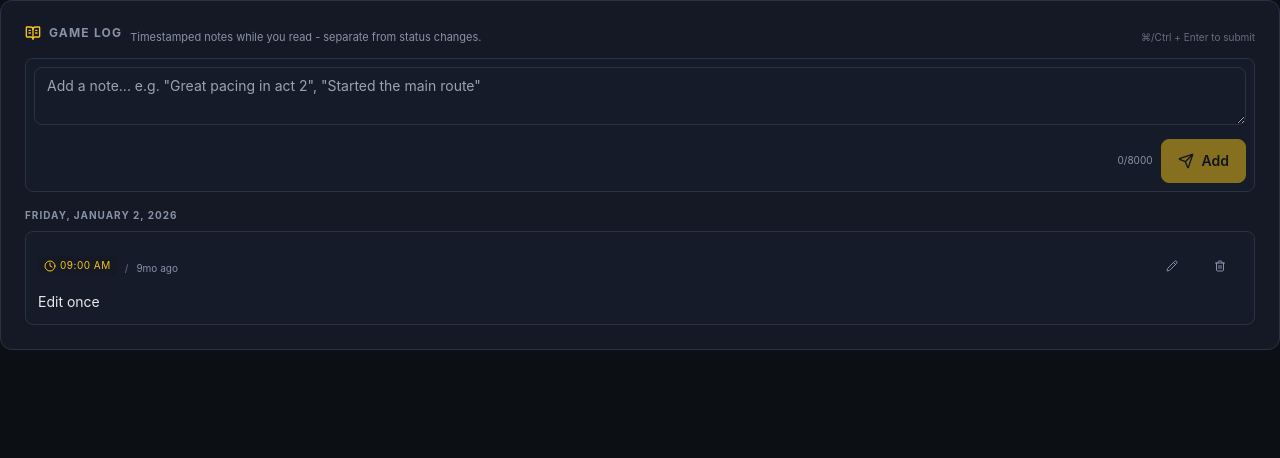
GameLog branches › ignores duplicate edit submissions while a request is active
The image size is (1280, 458).
Click the button named "Edit": (1172, 266) [1150,244,1194,288]
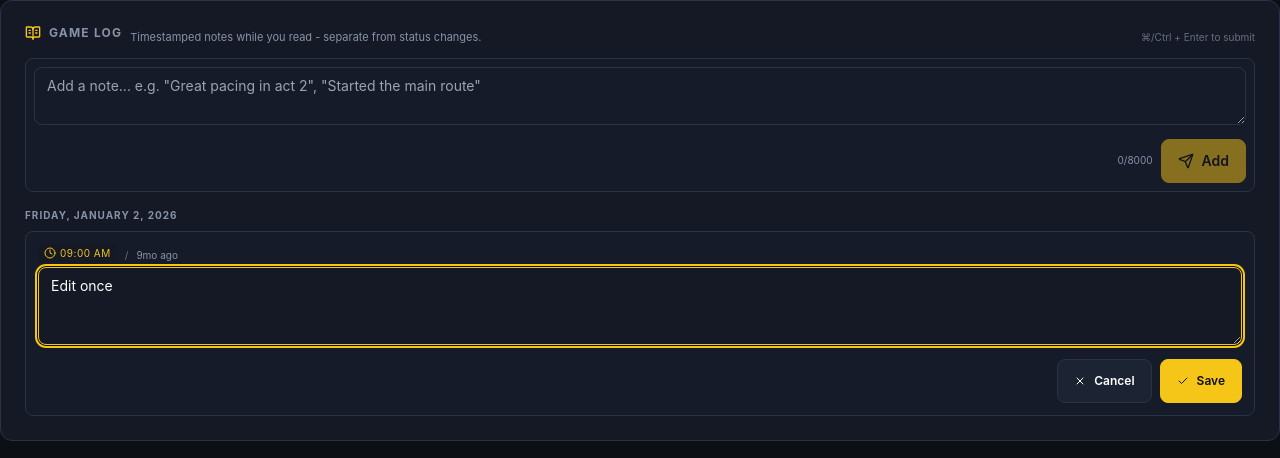
Replace the text in the text box showing "Edit once" with "Edited once": (640, 306) [38,267,1242,345]
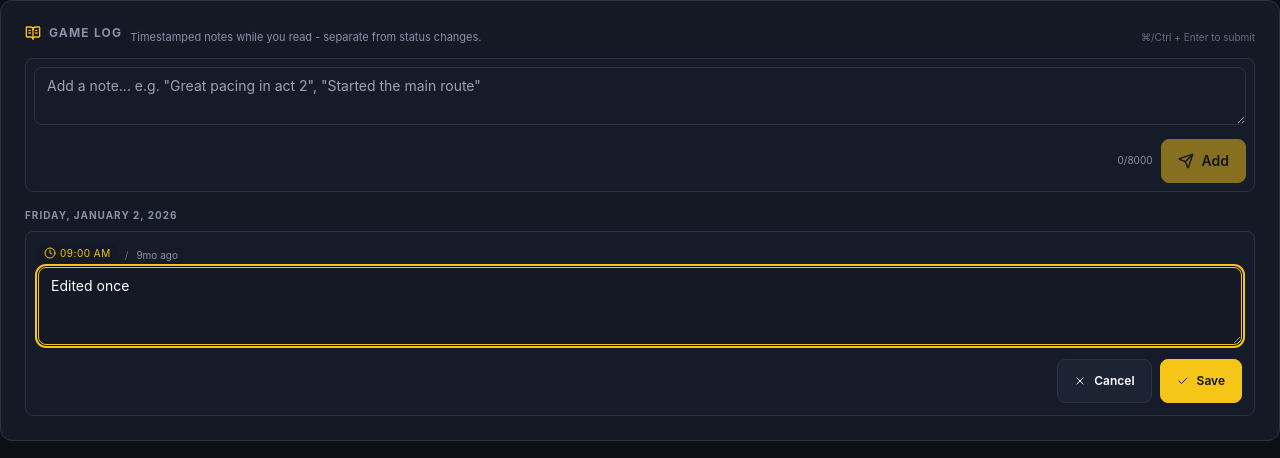
Click the button "Save": (1201, 381) [1160,359,1242,403]
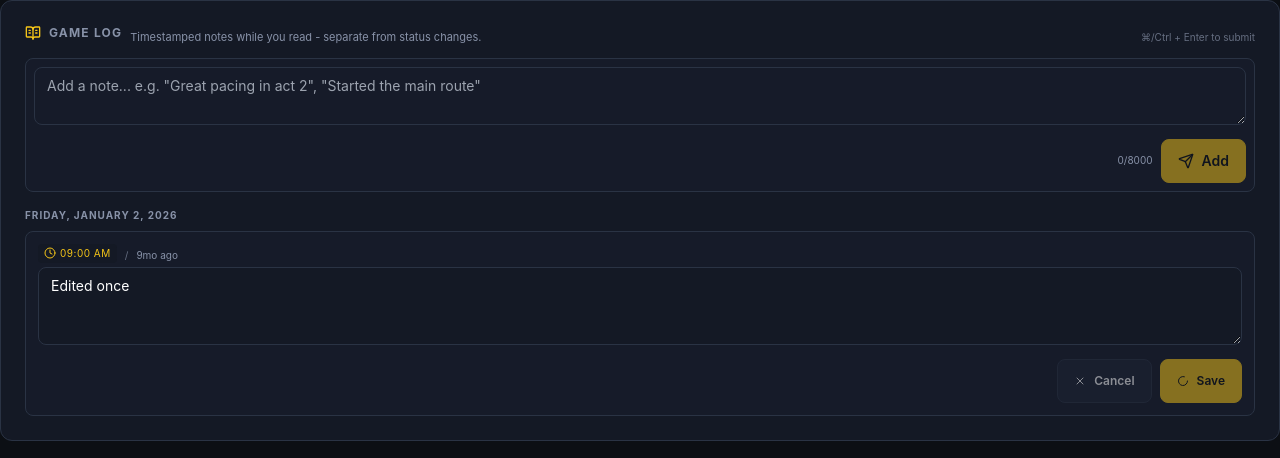
Press Enter in the text box showing "Edit once", box [38,267,1242,345]
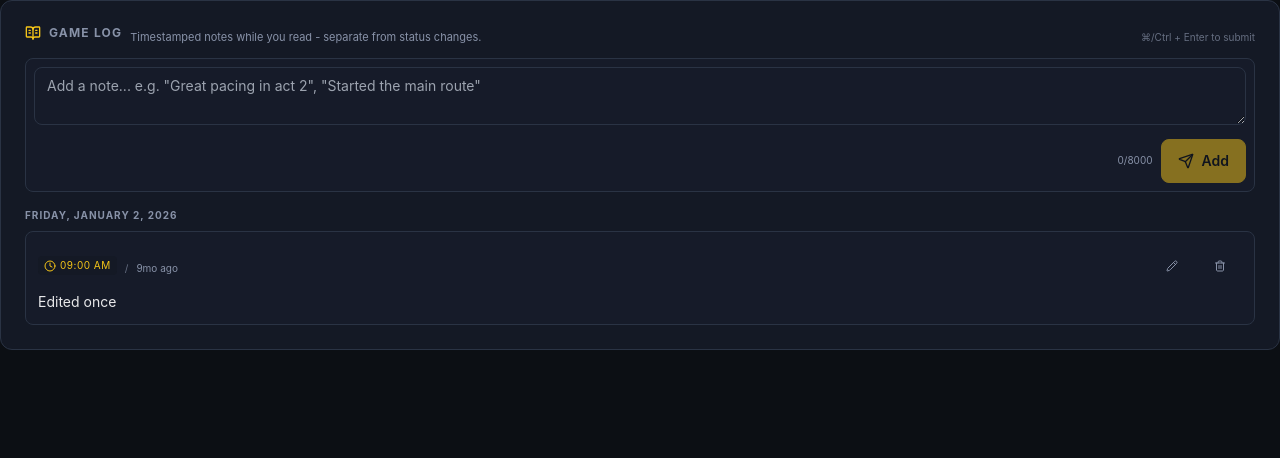
Now the text "Edited once" is shown, box [38,292,116,310]
